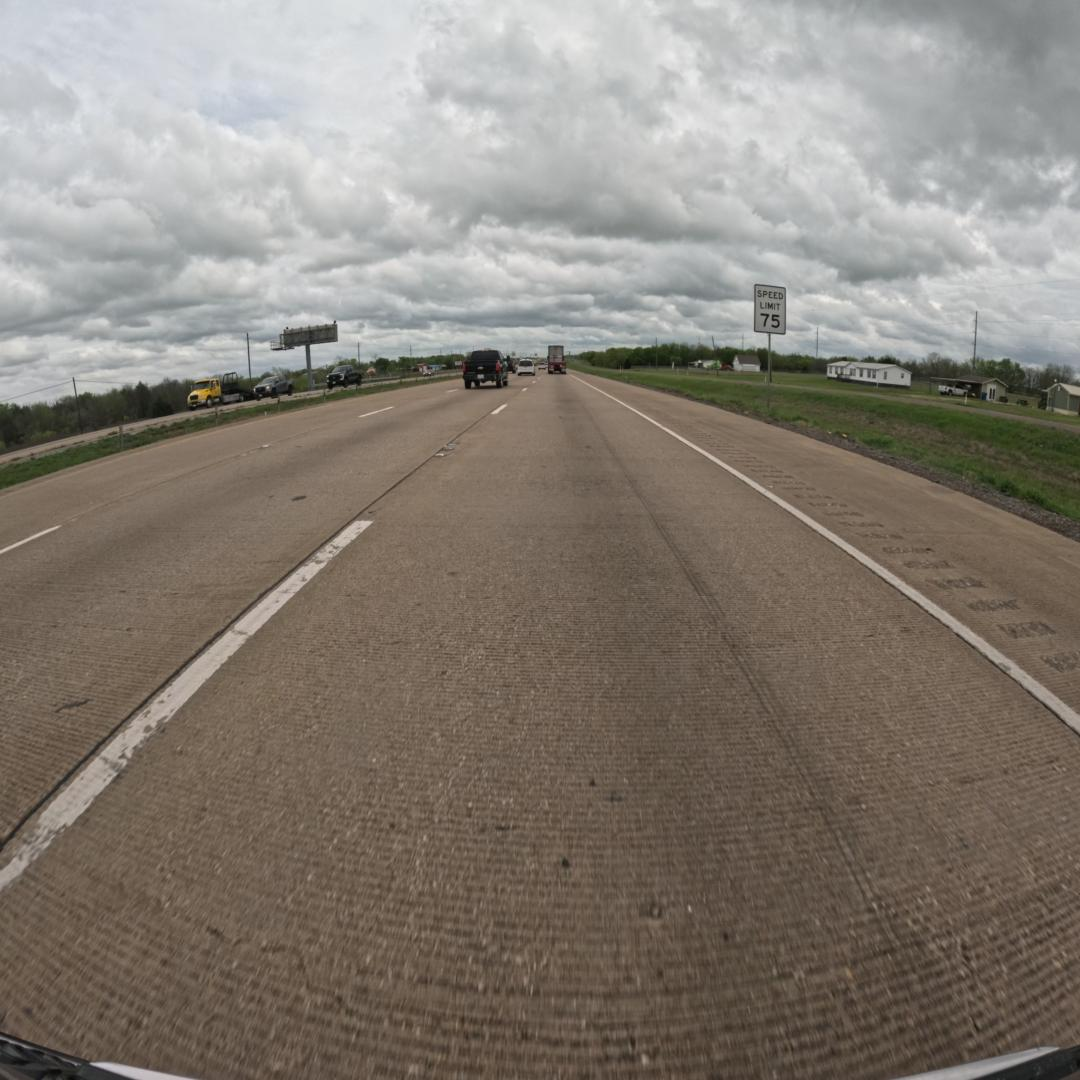lane0: (0, 376, 1080, 1077)
lane1: (0, 390, 505, 847)
